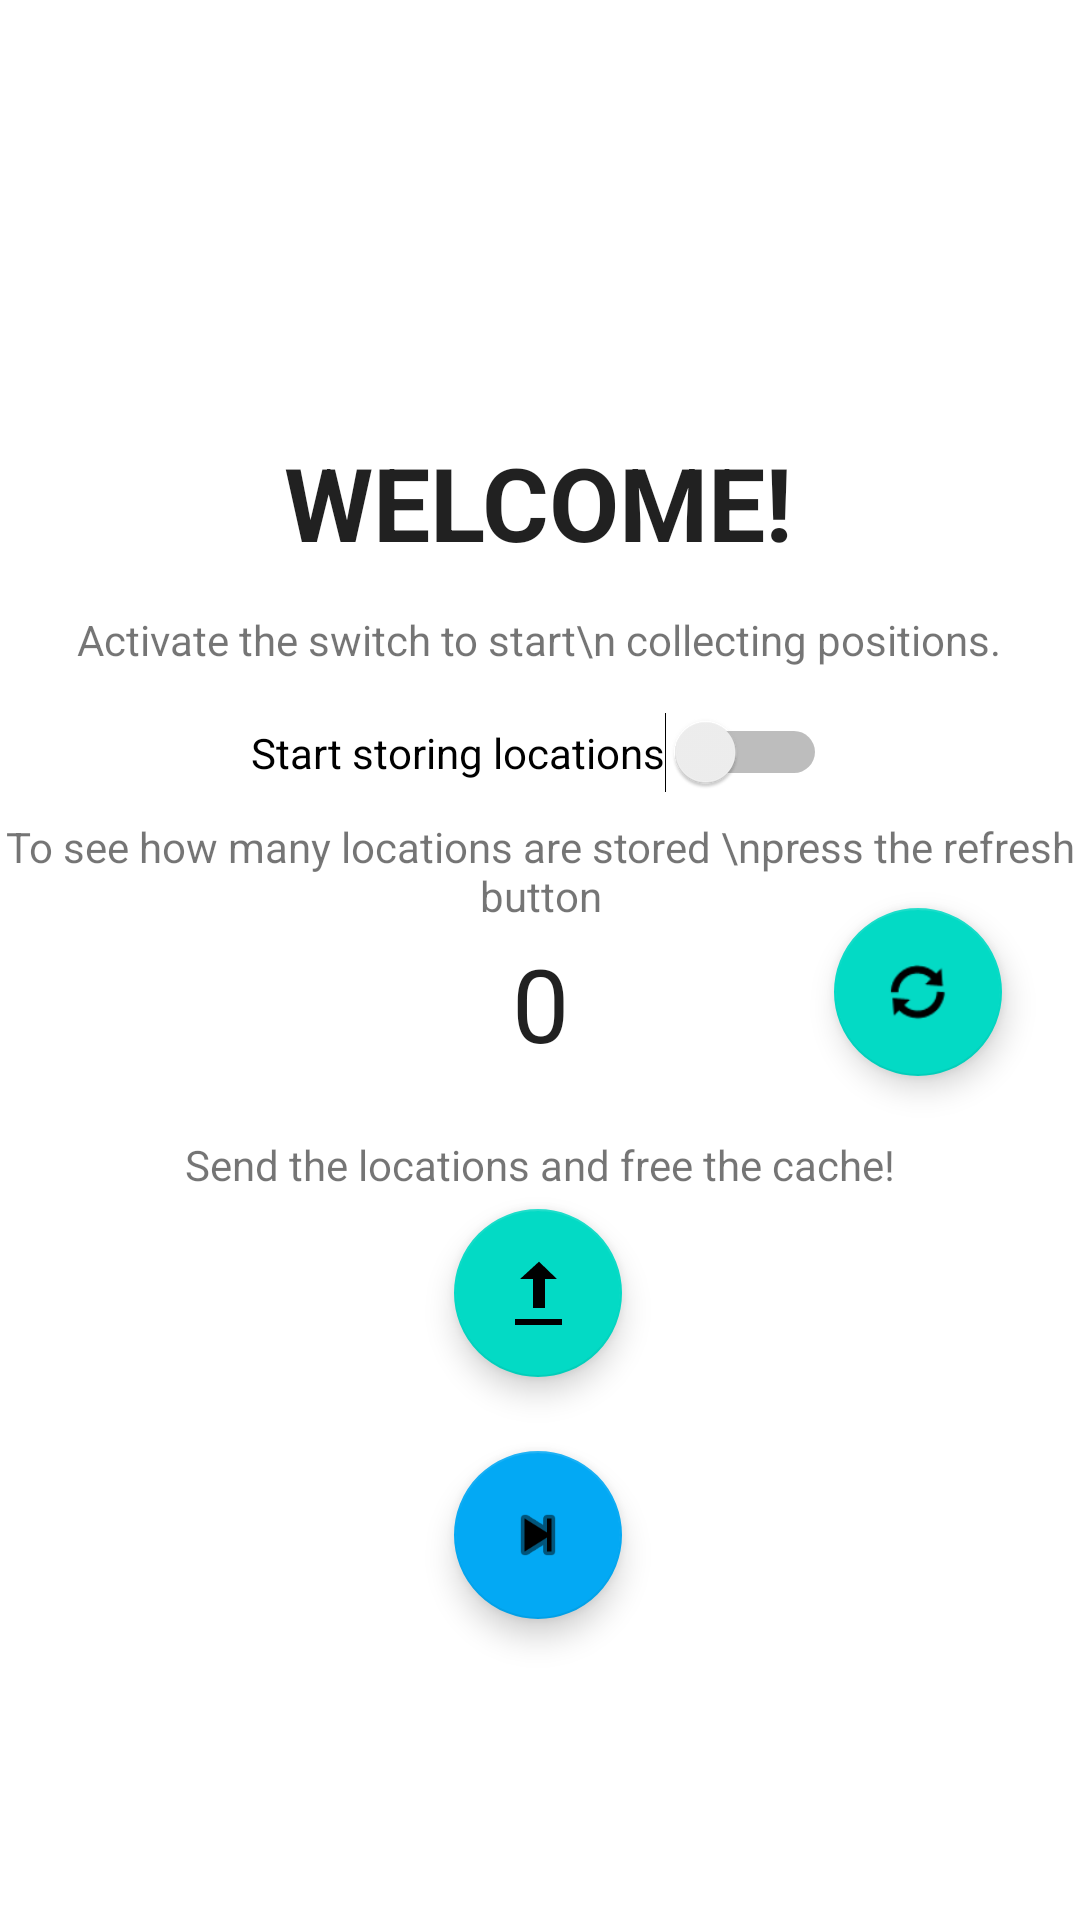

Where icons sit on this 1080 x 1920 app screen, as (x1, y1, x2, y2):
next: (454, 1451, 622, 1619)
popup sync: (834, 908, 1002, 1076)
upload done: (454, 1209, 622, 1377)
